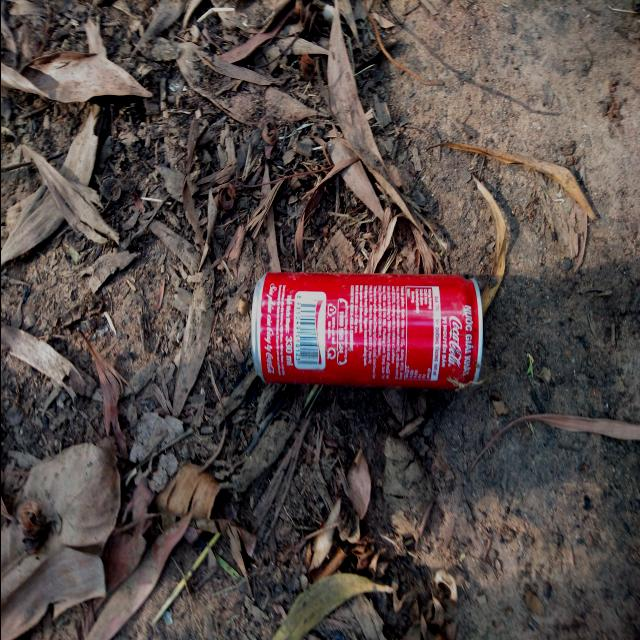Drink can: (250, 272, 483, 389)
